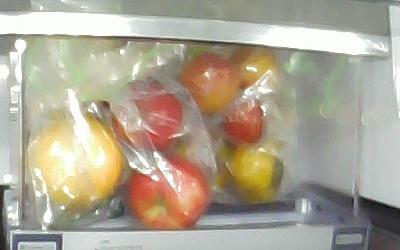apple_vinyl: (129, 158, 206, 229), (109, 78, 184, 149)
grapefruit_vinyl: (27, 117, 123, 213)
persimmon_vinyl: (229, 139, 283, 203)
prune_vinyl: (181, 52, 241, 113), (231, 44, 278, 87), (221, 97, 264, 143)
